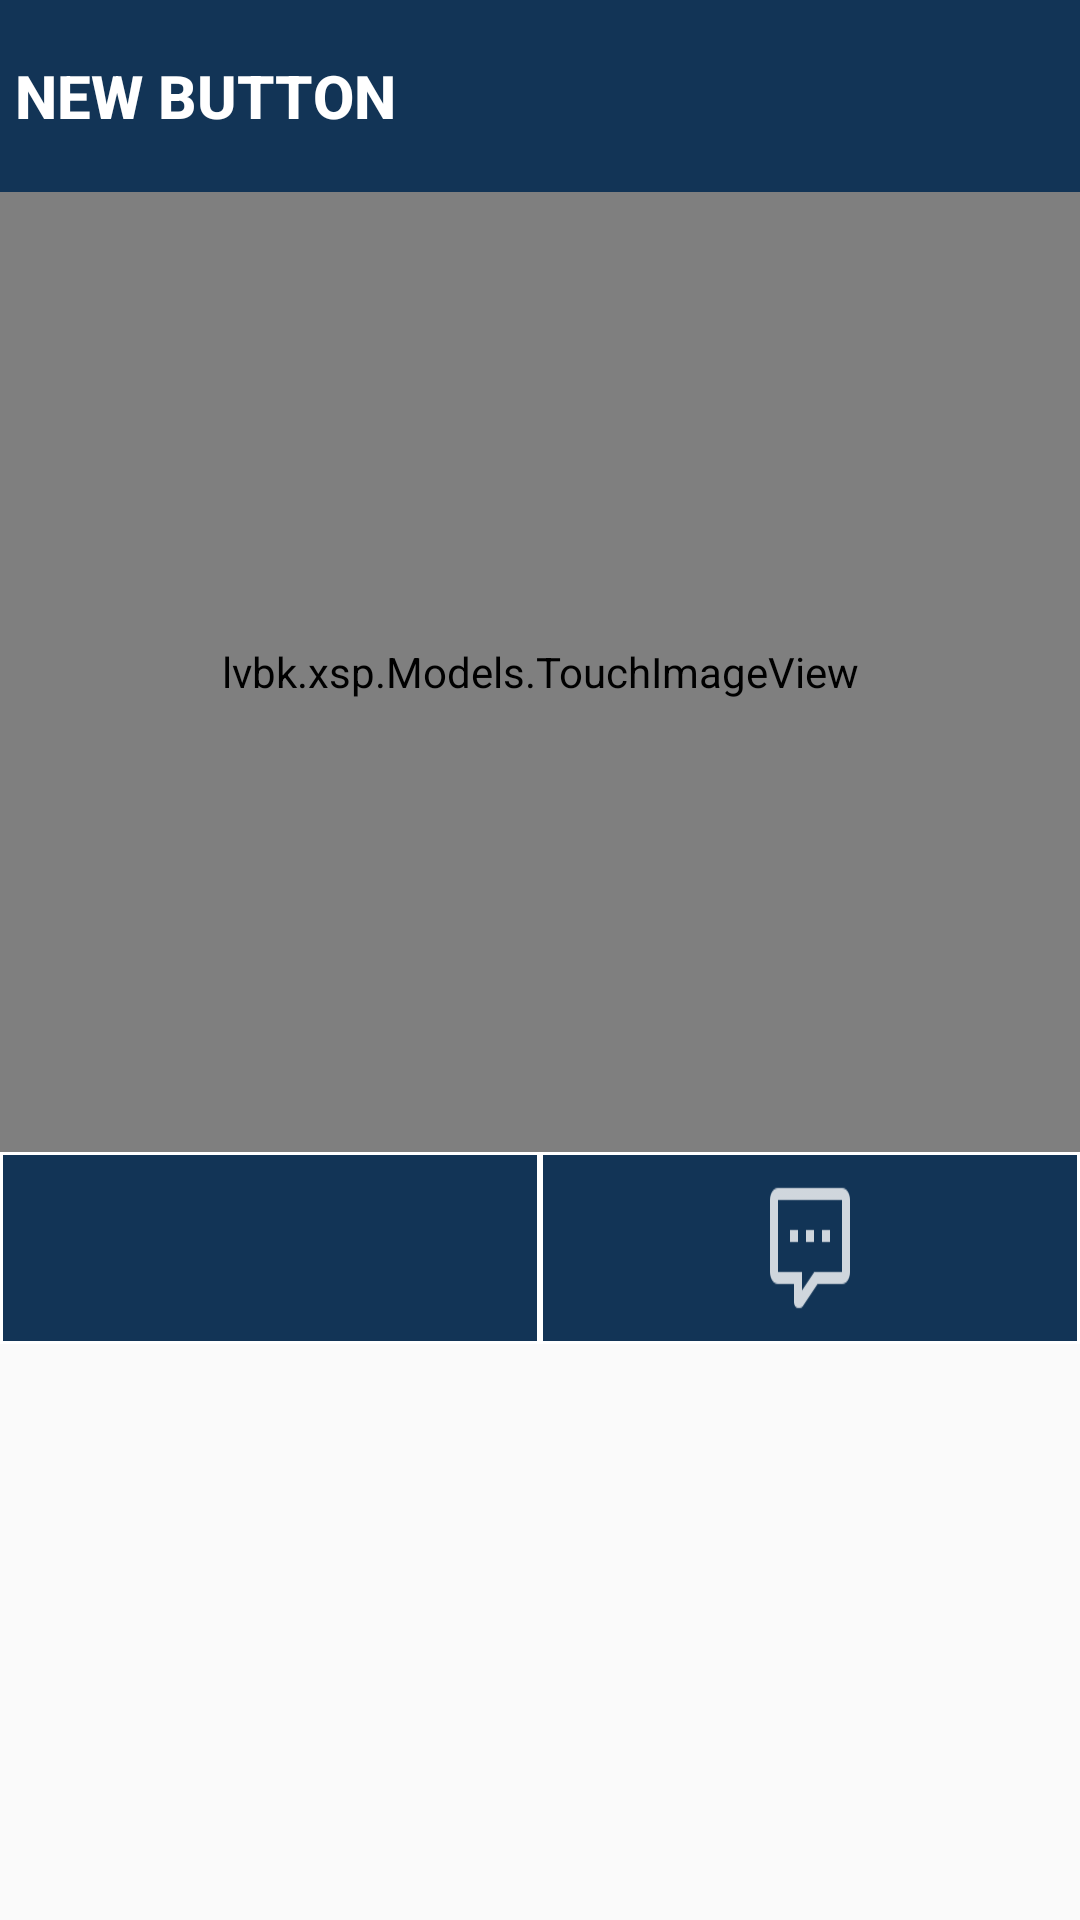

Icons on this 1080*1920 Android screen, each with the point to tap as point (x, y):
comment processing: point (810, 1248)
